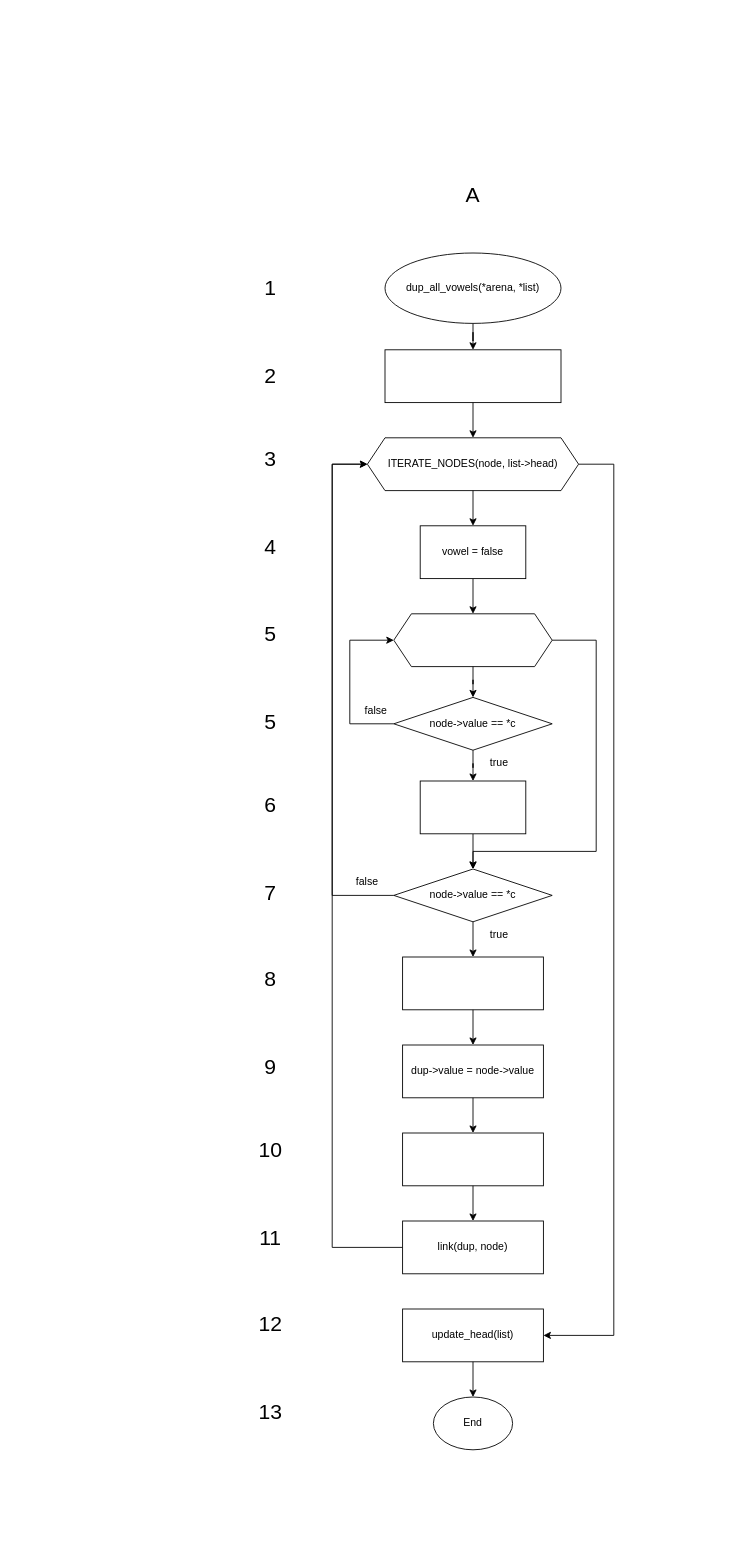
Some shapes in this 752 by 1561 pixel diagram are drawn without their labels. The shapes that lost their labels are listed below. From the top down, each one's box as (x1, y1, x2, y2) in pixels, then its label:
(384, 349, 561, 403): vowels = "aeiouAEIOU"
(393, 613, 552, 667): *c = vowels; *c != '\0'; c++
(419, 780, 526, 834): vowel = true
(402, 956, 543, 1010): dup = node_malloc(arena)
(402, 1132, 543, 1186): link(node->prev, dup)
